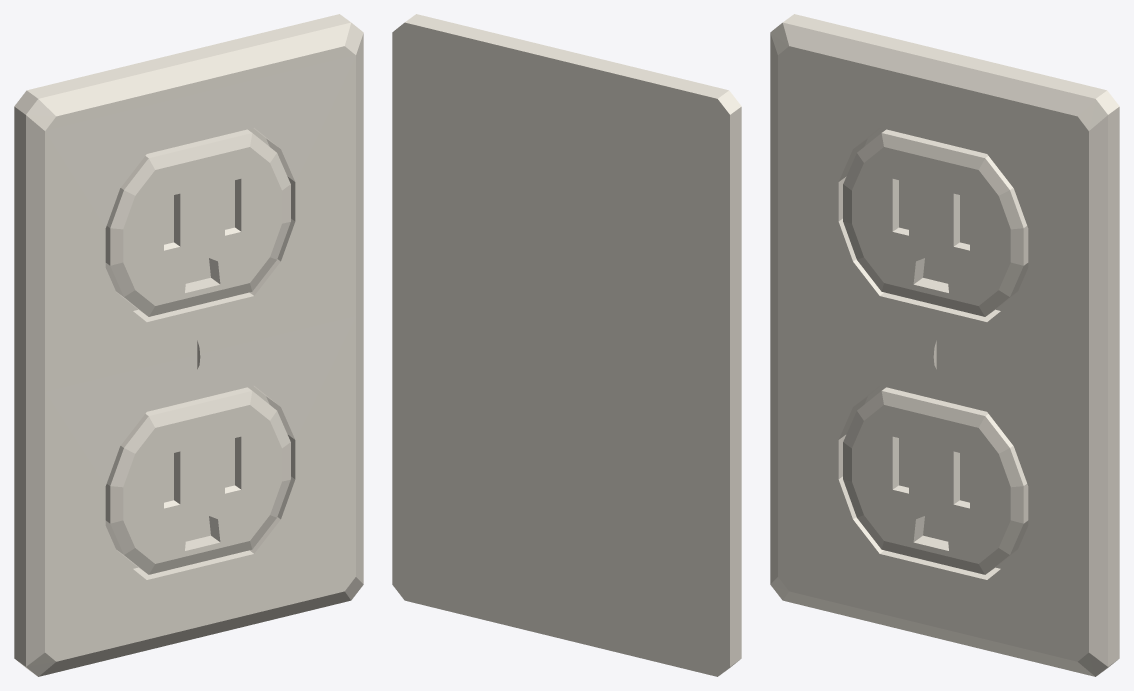
The model's file is Electrical outlet.glb.
The picture shows the model from 3 angles, left to right: view 1: azimuth 30°, elevation 25°; view 2: azimuth 150°, elevation 25°; view 3: azimuth 330°, elevation 25°; orthographic projection.
Parts seen in each view (by area): view 1: Outlet; view 2: Outlet; view 3: Outlet.
Boxes of the visible parts, x1,y1,x2,y2 form: Outlet: (14, 14, 363, 676); Outlet: (392, 14, 741, 676); Outlet: (770, 14, 1119, 676).
Size of the model in its own units: 20.11 by 32.88 by 2.1.
Materials: 1 (1 with a texture image).
